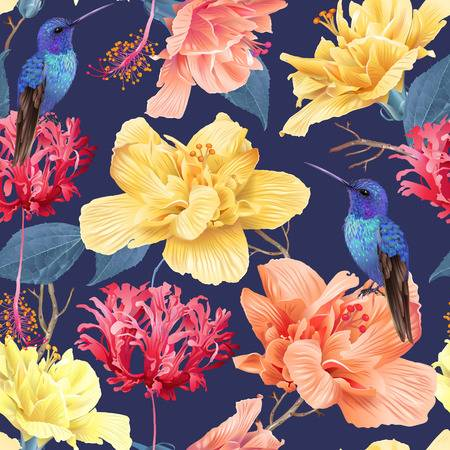Hibiscus: (91, 125, 291, 285), (242, 258, 424, 422), (283, 7, 442, 119), (8, 330, 129, 450), (141, 2, 269, 113)
